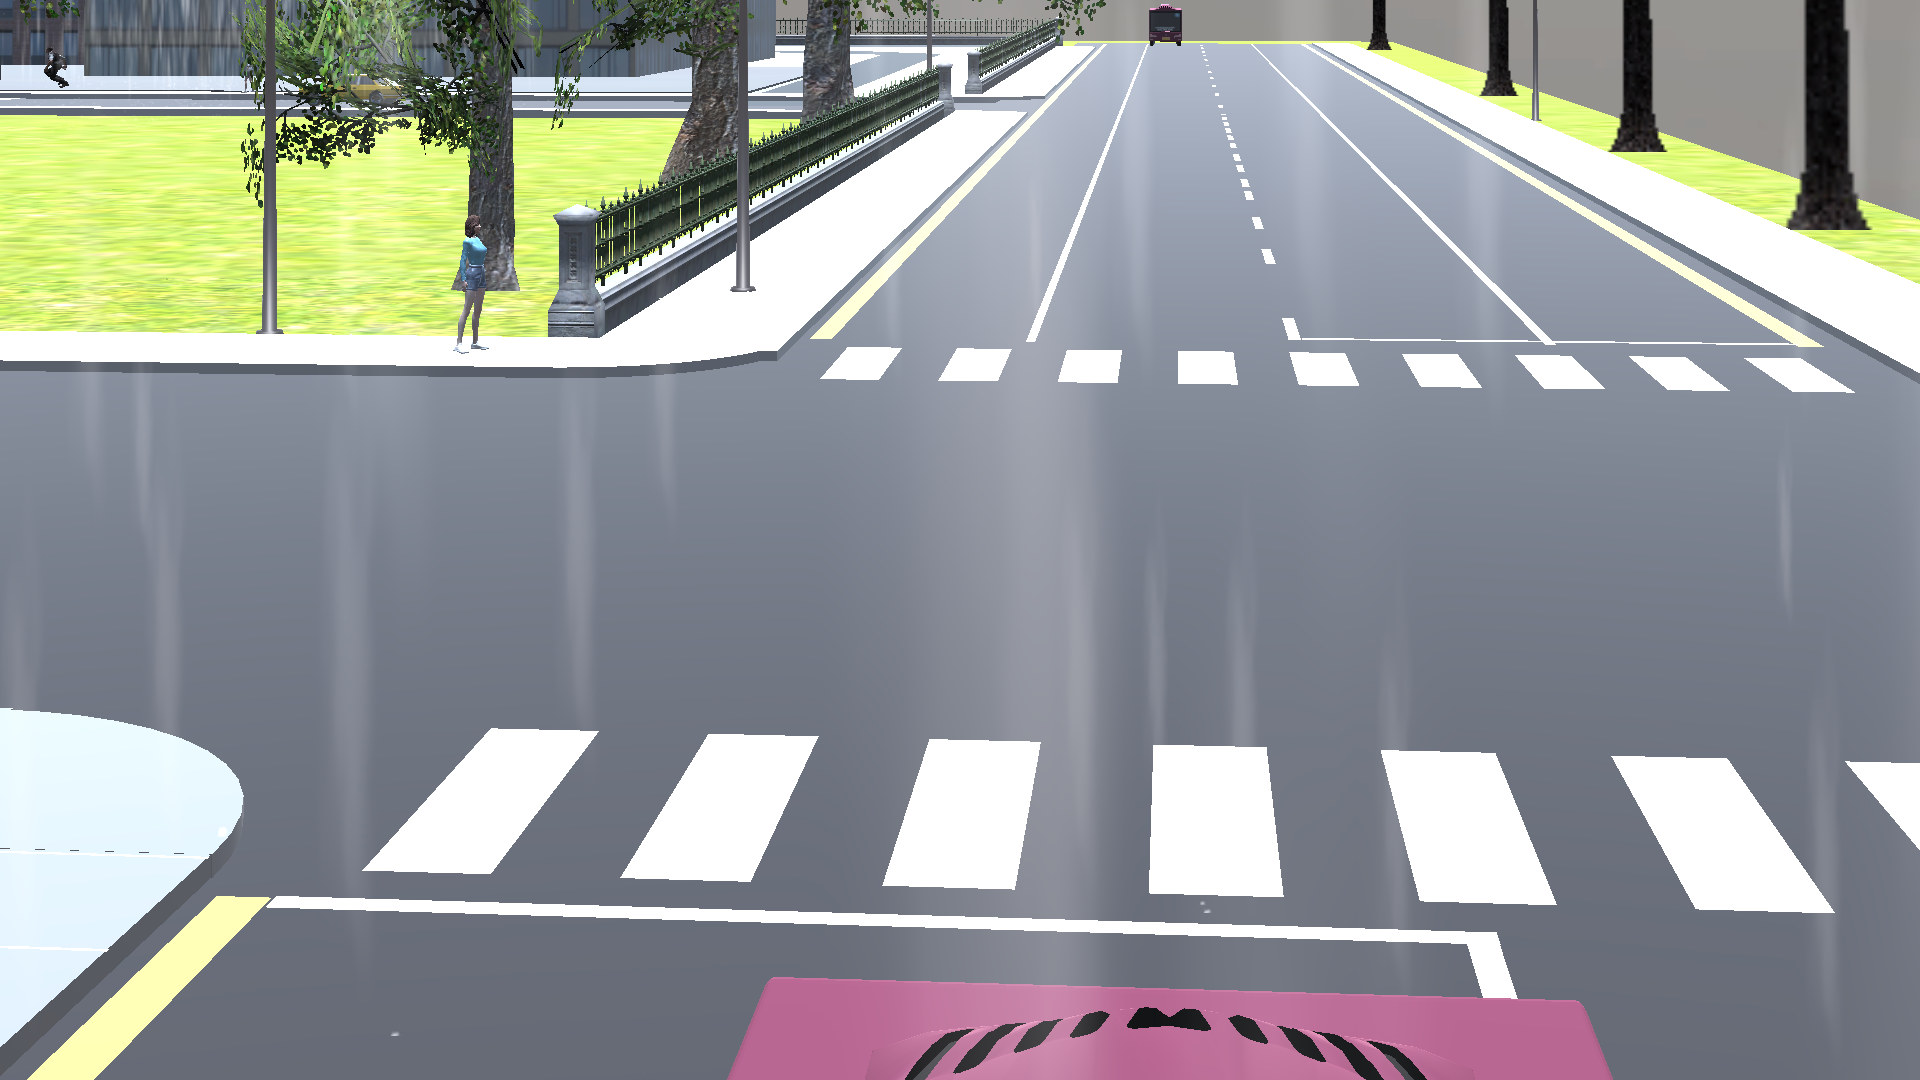pedestrian: (438, 211, 507, 365)
